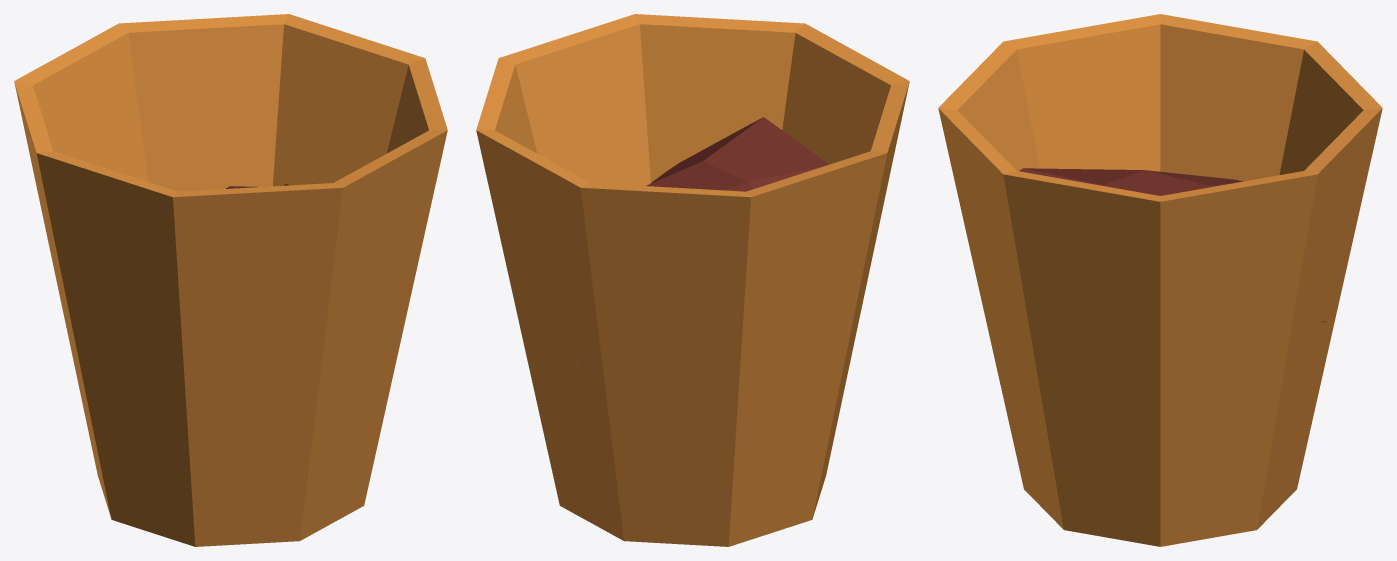
The model's file is Plant Pot.fbx.
The picture shows the model from 3 angles, left to right: view 1: azimuth 30°, elevation 25°; view 2: azimuth 150°, elevation 25°; view 3: azimuth 270°, elevation 25°; orthographic projection.
Parts seen in each view (by area): view 1: Cylinder; view 2: Cylinder, Dirt; view 3: Cylinder, Dirt.
Boxes of the visible parts, x1,y1,x2,y2 form: Cylinder: [14, 14, 447, 546]; Cylinder: [476, 14, 909, 546]; Dirt: [570, 117, 828, 365]; Cylinder: [938, 14, 1382, 546]; Dirt: [1019, 168, 1326, 322].
Size of the model in its own units: 33 by 31.23 by 33.
